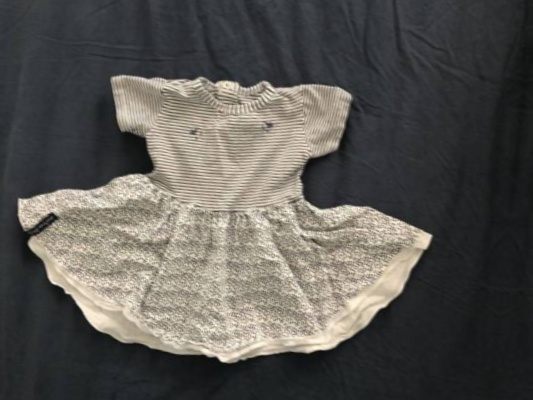Dress: (0, 0, 487, 387)
